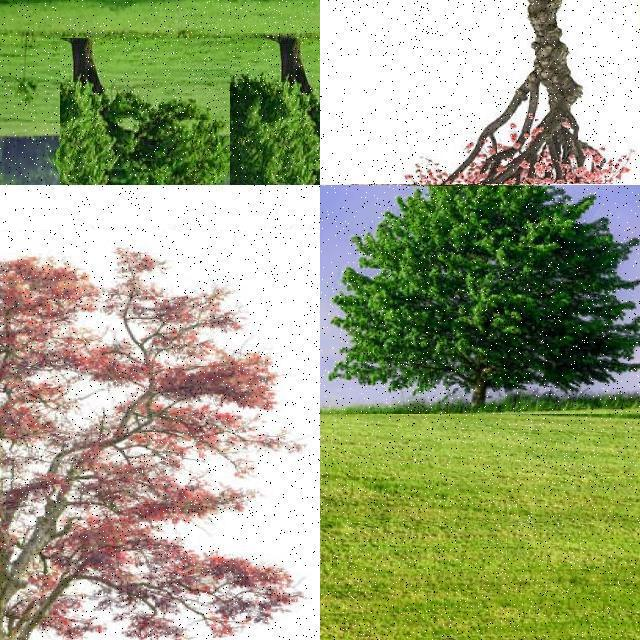tree: (0, 230, 320, 640), (320, 186, 640, 414), (320, 0, 640, 184), (60, 38, 230, 186), (178, 11, 320, 185)
